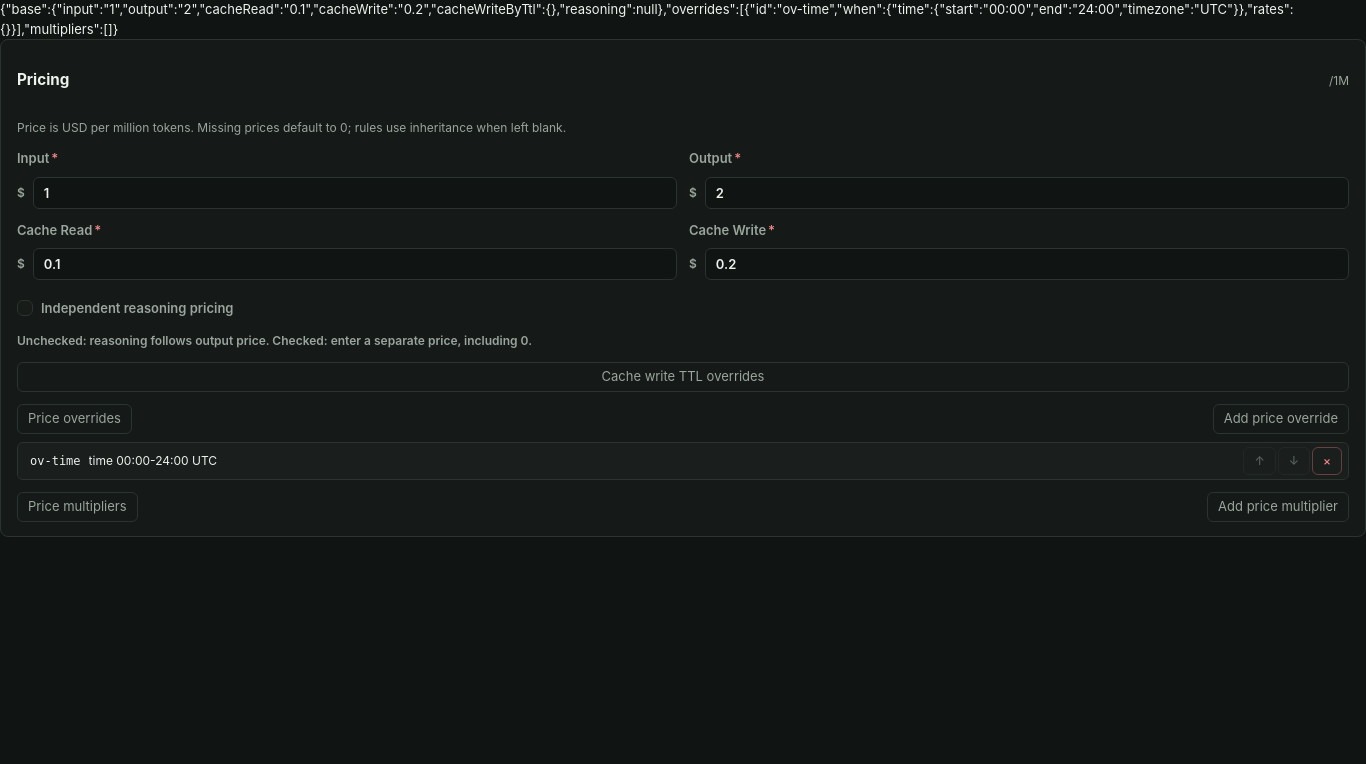
Test: ModelPricingEditor source controls › keeps 24:00 visible while editing the start time
Click the button "ov-time time 00:00-24:00 UTC".
click(55, 461)  # box [24,451,1235,471]
(page scrolled)
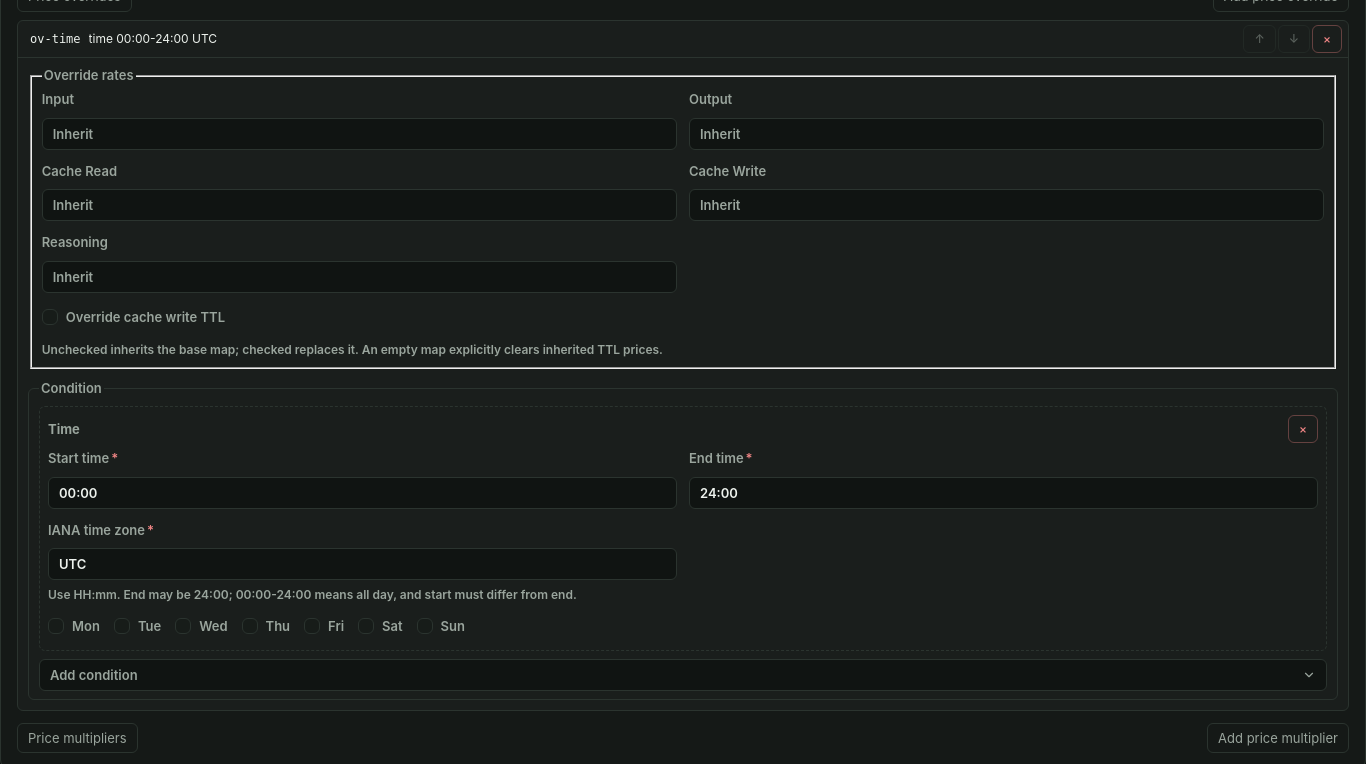
Replace the text in the field labelled "Start time" with "06:30" at (362,493), box [48,477,677,509]
(page scrolled)
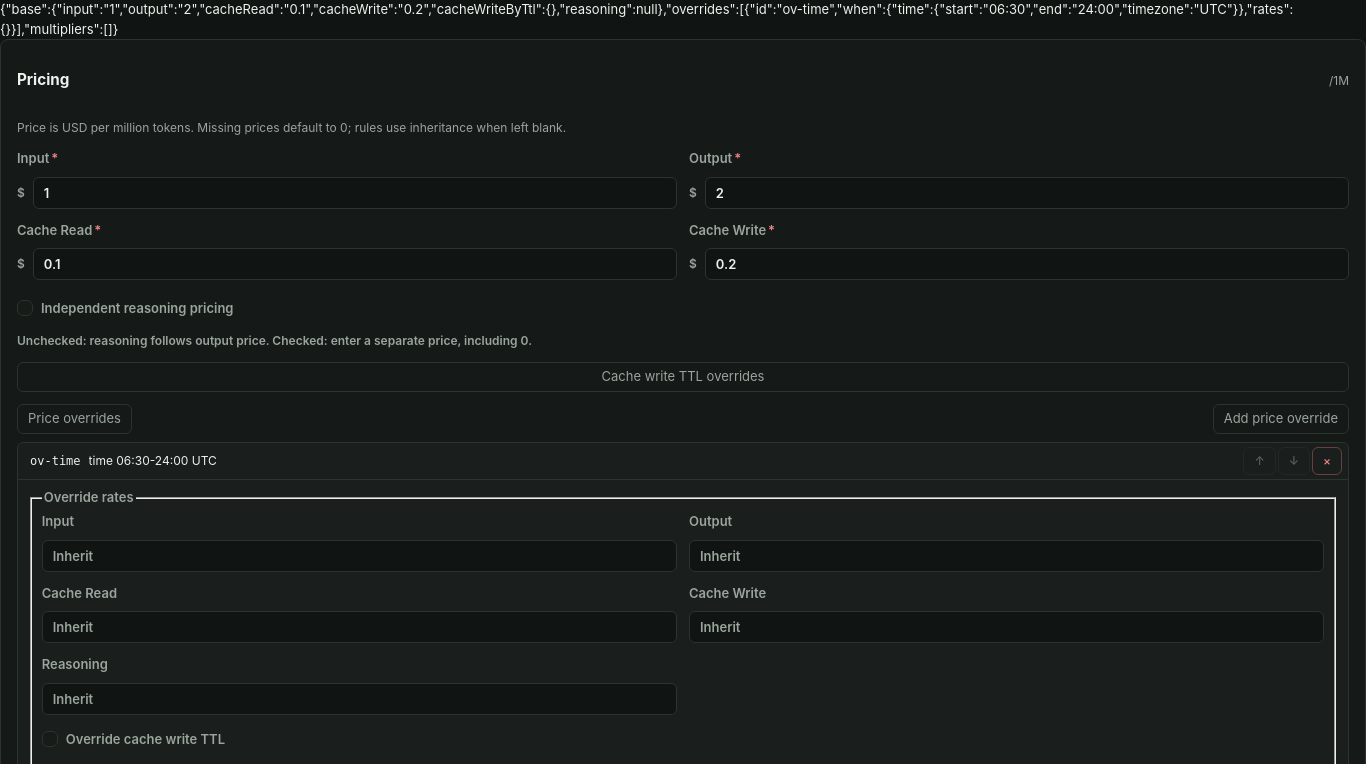
Now the text with test id "pricing-json" shows "\"start\":\"06:30\",\"end\":\"24:00\"", box [0,1,1293,36]
